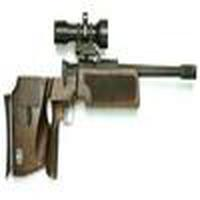gun: (3, 17, 200, 174)
